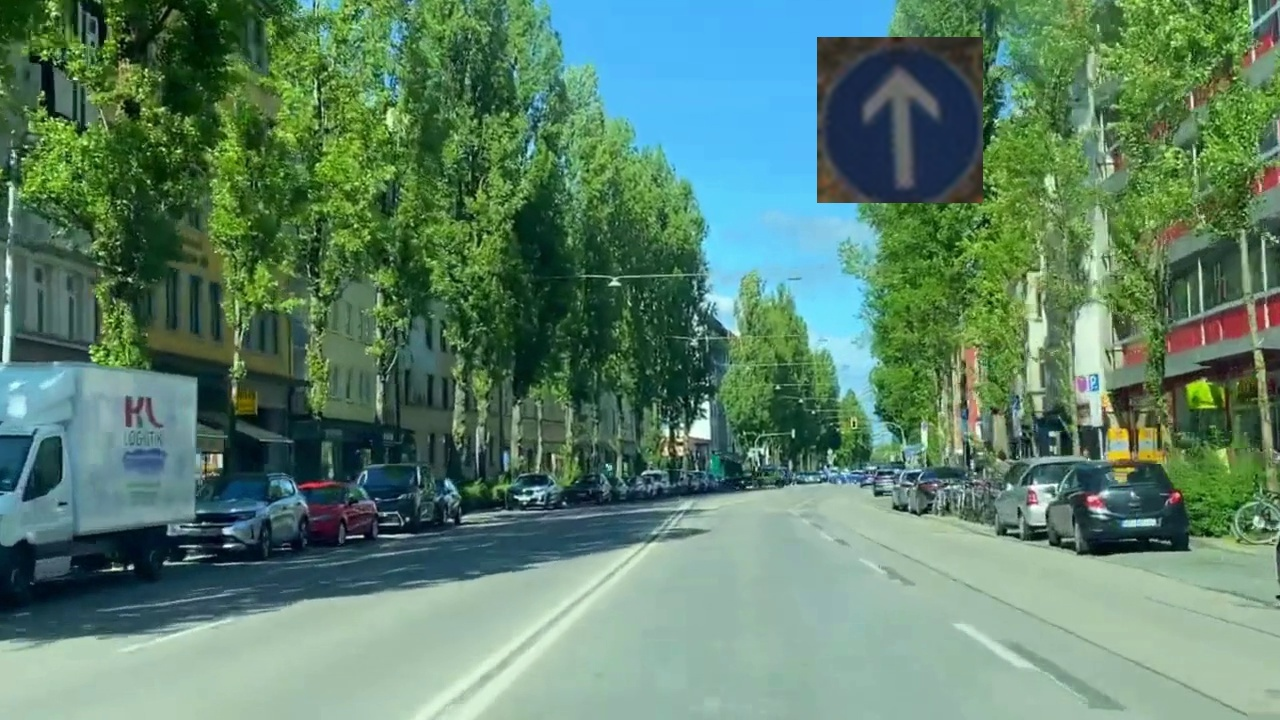Ahead only: (817, 37, 983, 203)
